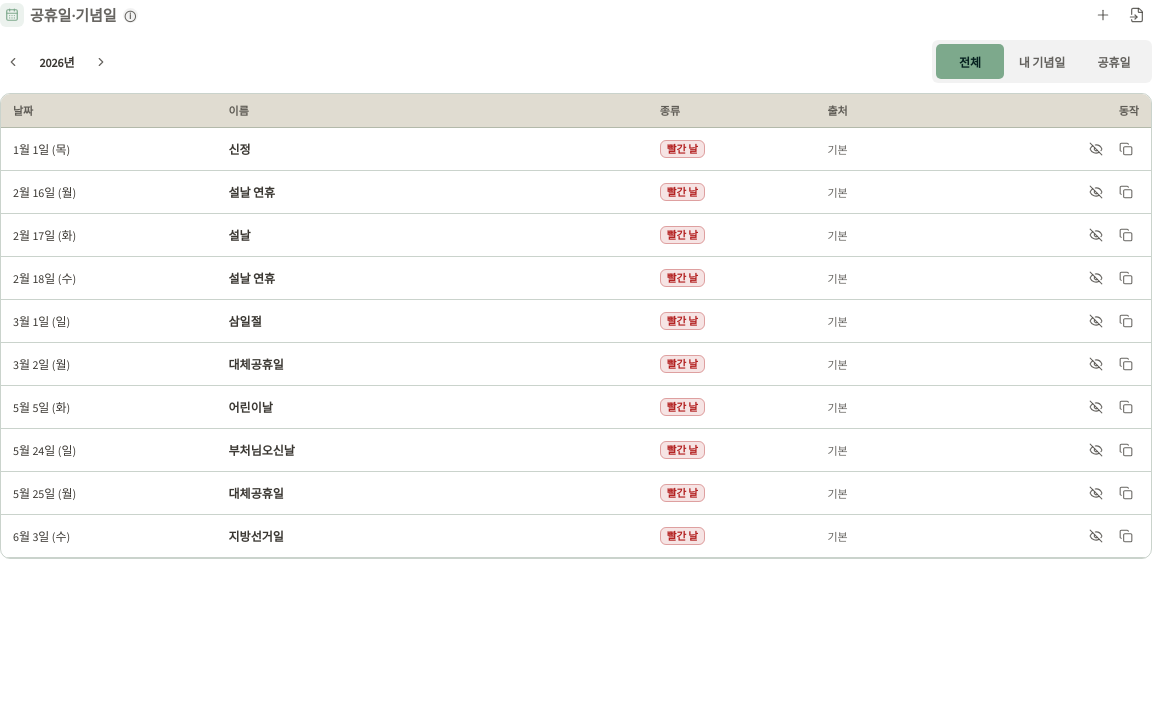
Test: DayMarksSection — 공휴일·기념일 표 (PLAN-2026-09-19-calendar-schedule §5.2) › 추가 폼: 음력이면 반복이 매년으로 묶이고, 한 번 + 연도 없음은 막고, 저장은 calendar_mark_create
The width and height of the screenshot is (1152, 720).
Click the button with test id "day-marks-add-btn".
click(1103, 15)  # box left=1088, top=0, right=1118, bottom=30
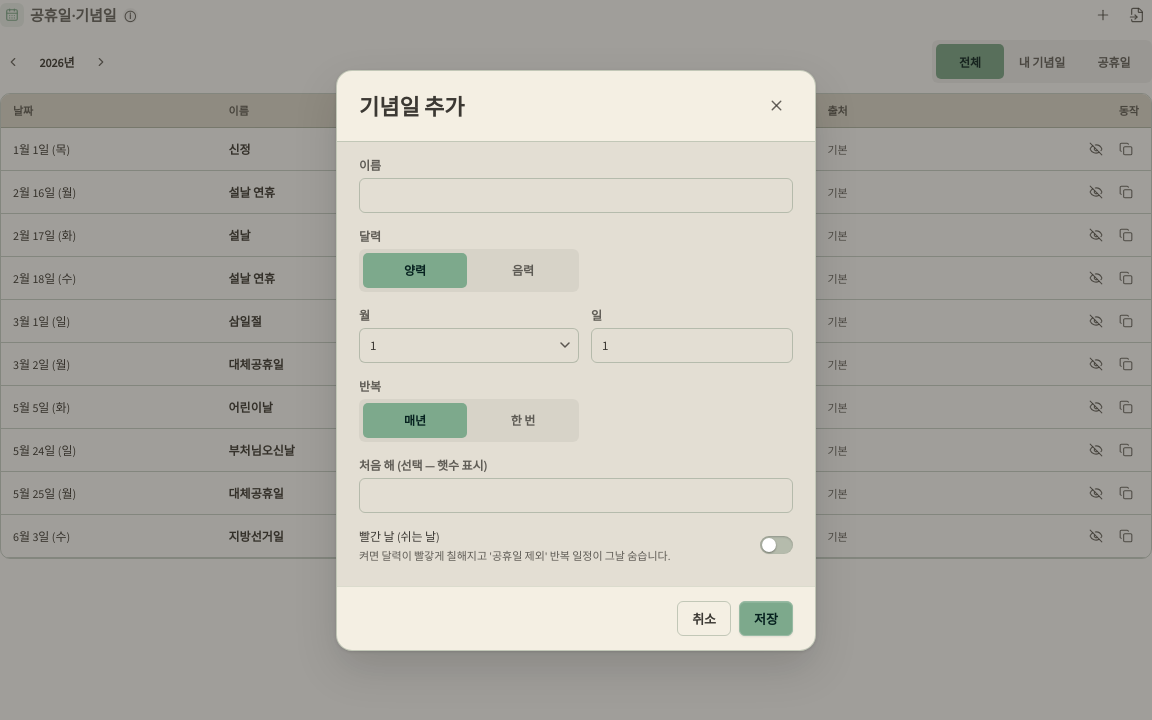
Type "제사" into the field with test id "day-mark-form-title".
click(576, 195); type("제사")  # box left=359, top=178, right=793, bottom=212
Click the radio button labelled "한 번".
click(523, 420)  # box left=471, top=402, right=575, bottom=438
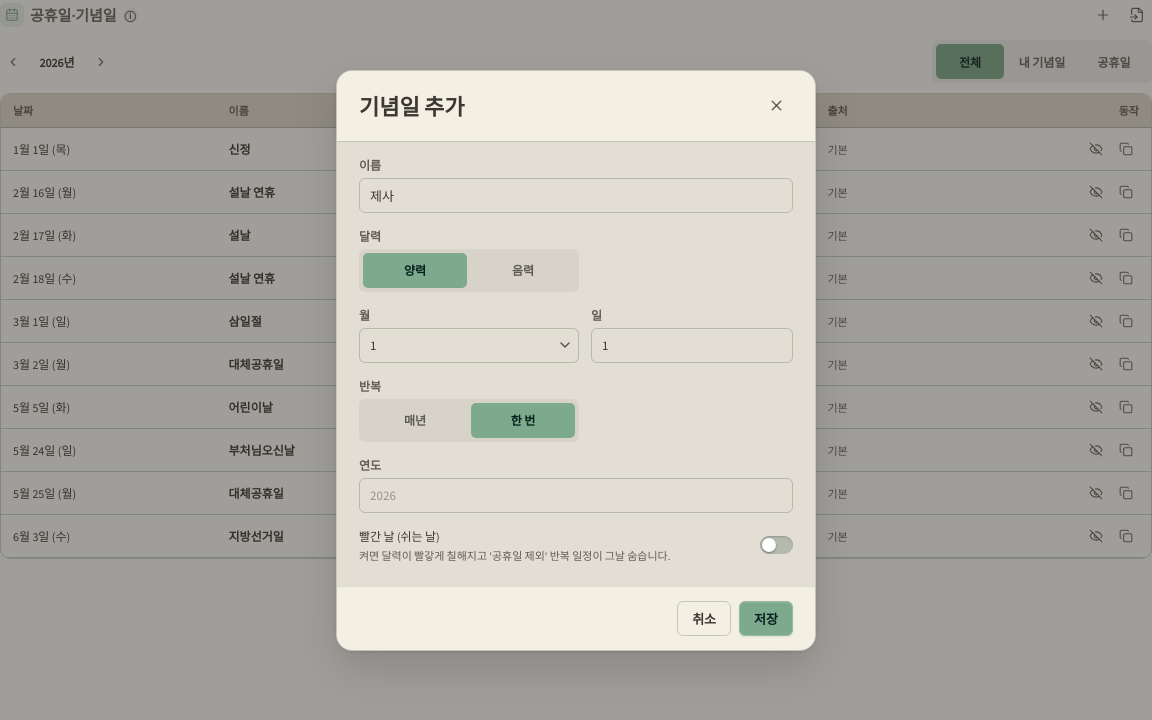
Click the button with test id "day-mark-form-save".
click(766, 618)  # box left=739, top=600, right=793, bottom=636
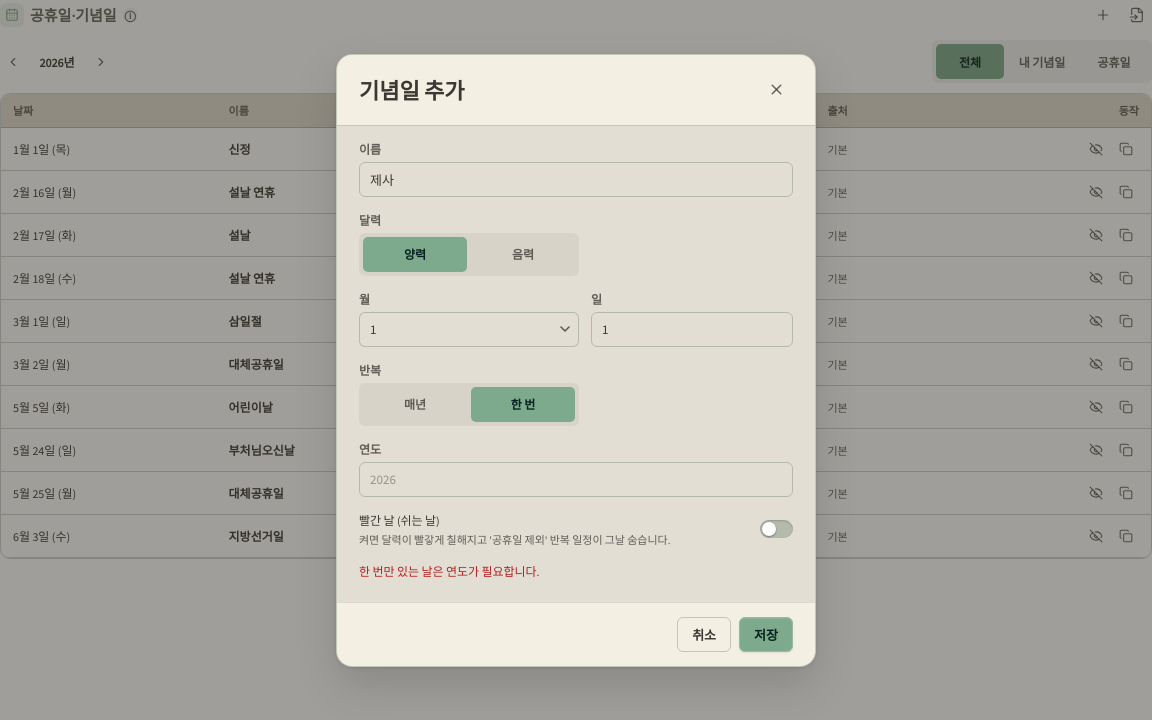
Expected: the message with test id "day-mark-form-error" shows "연도", left=359, top=564, right=540, bottom=580
Click the radio button labelled "음력".
click(523, 254)  # box left=471, top=236, right=575, bottom=272
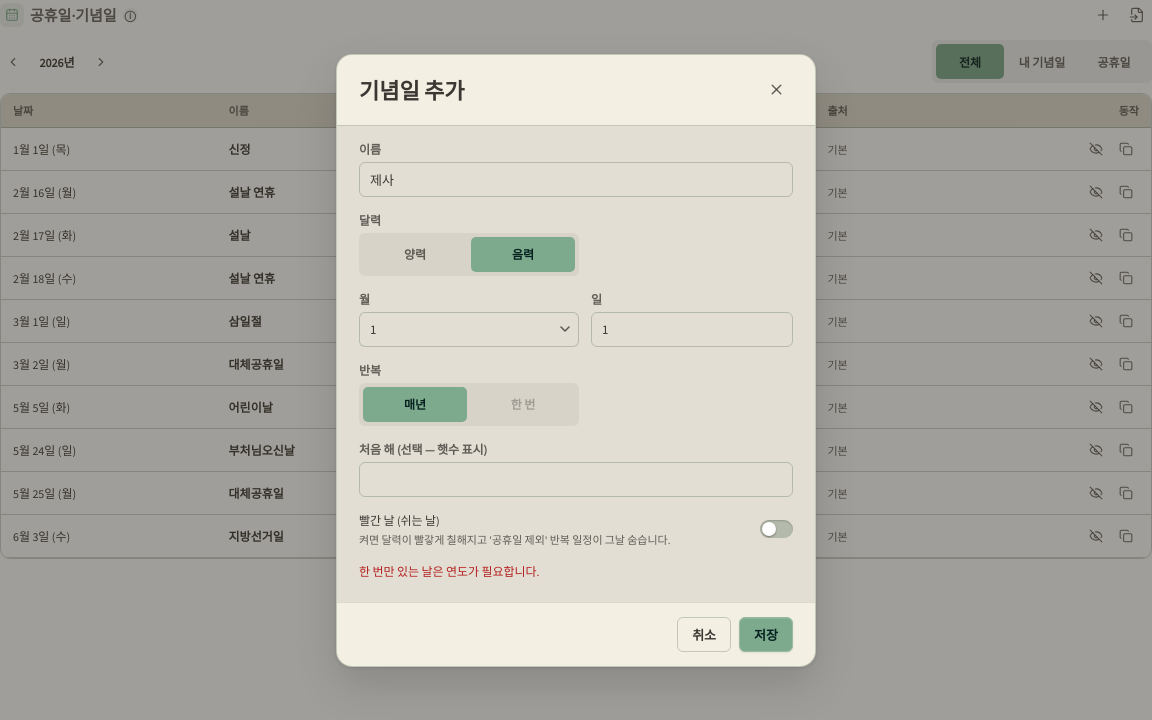
Expected: the radio button labelled "매년" is checked, left=363, top=386, right=467, bottom=422
Replace the text in the number field with test id "day-mark-form-day" with "30" at (692, 329), box left=591, top=312, right=793, bottom=346
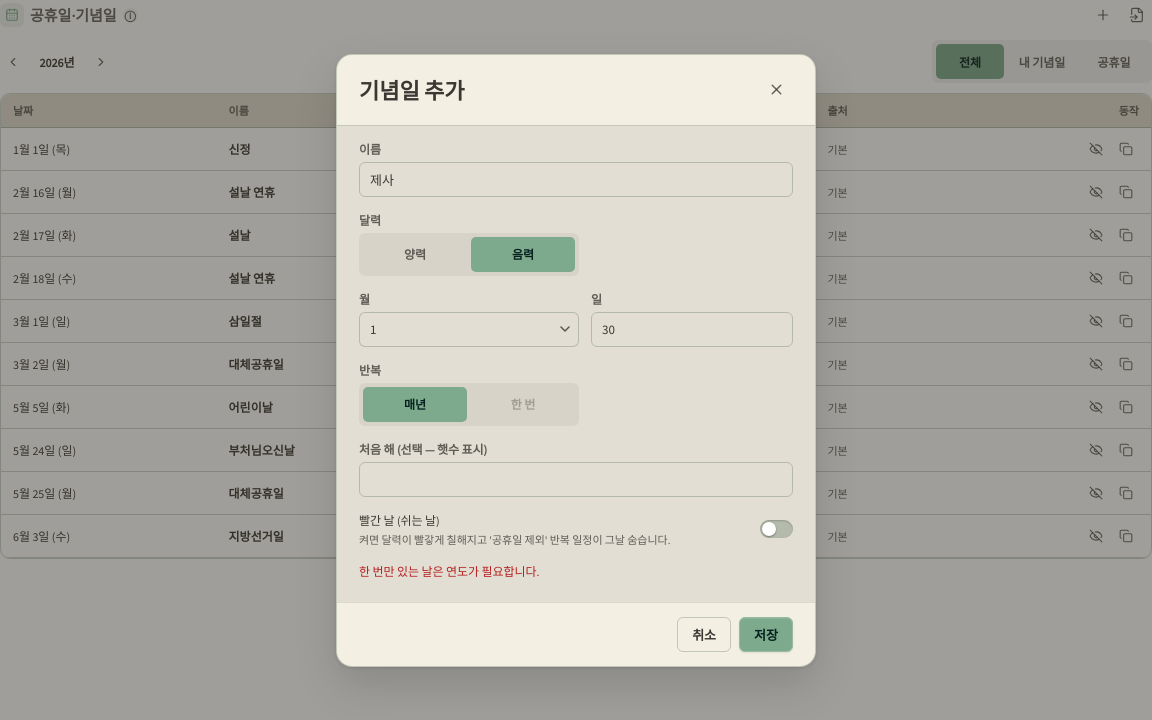
Click the button with test id "day-mark-form-save".
click(766, 634)  # box left=739, top=616, right=793, bottom=652
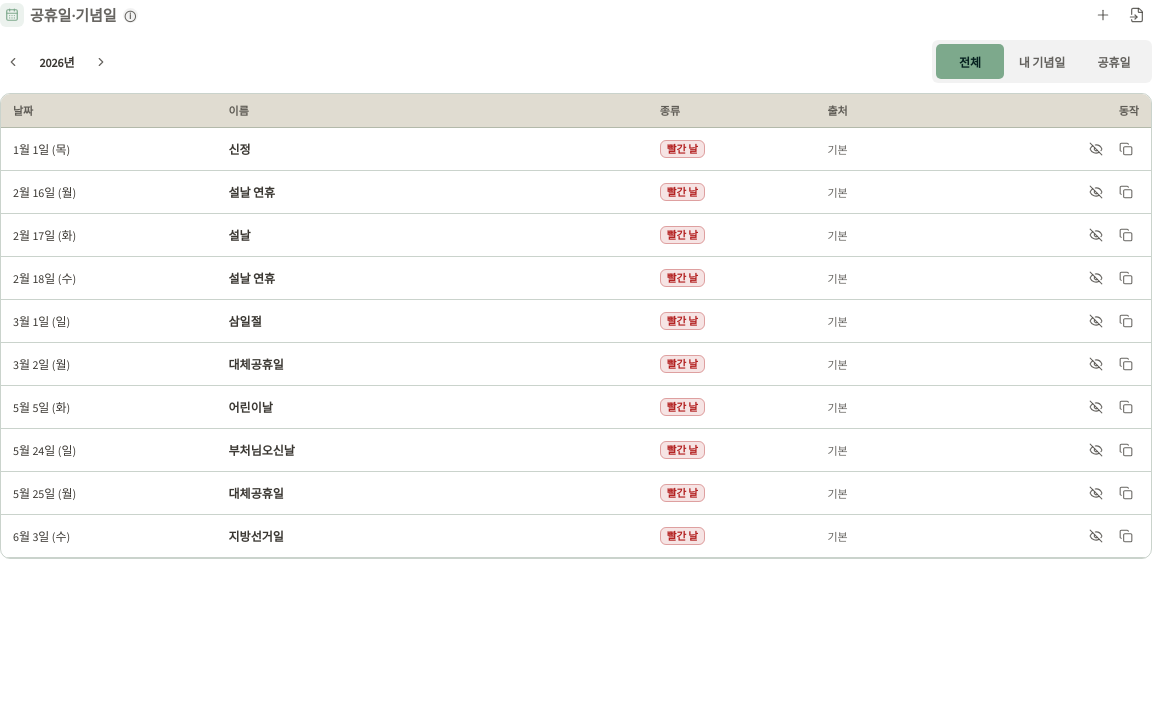
Expected: the field with test id "day-mark-form-title" is gone
